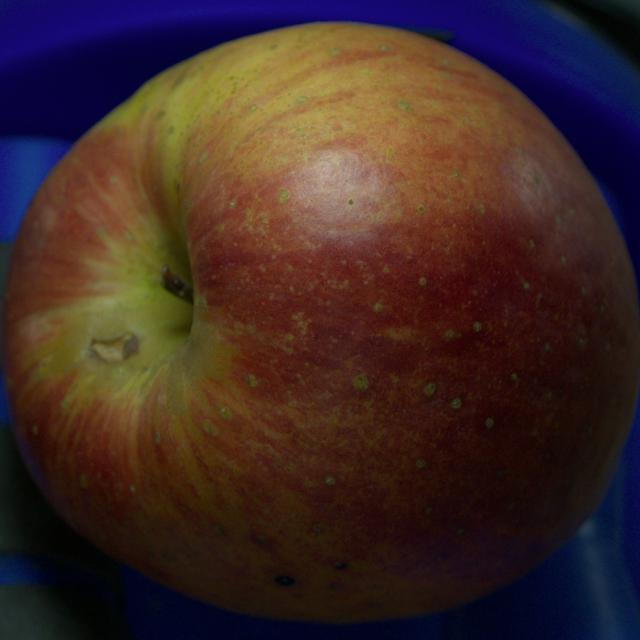apple: (2, 23, 639, 623)
pest: (274, 576, 294, 586), (334, 562, 348, 569)
scratch: (91, 332, 139, 362)
